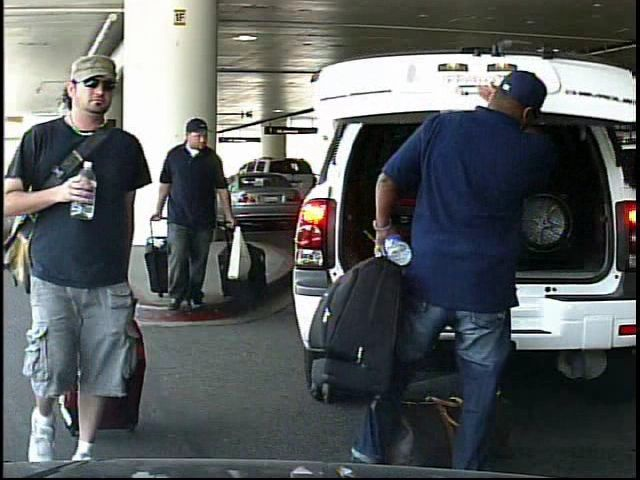person: (355, 74, 541, 476), (9, 59, 174, 480), (161, 114, 248, 317)
